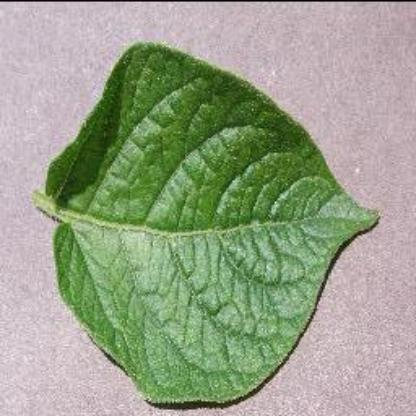Healthy-plant: (38, 31, 366, 400)
